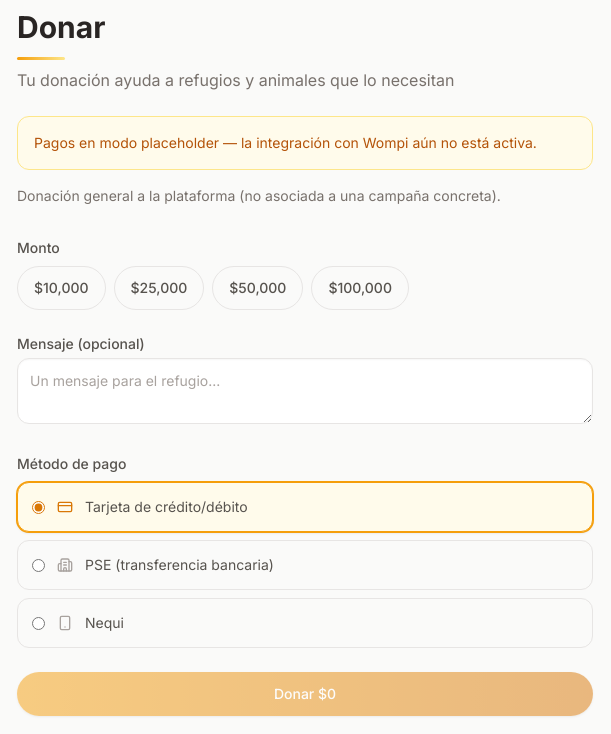
Test: CheckoutDonacionPage › shows Procesando text while submitting
The width and height of the screenshot is (611, 734).
Click the button "$25,000" at (159, 288), box [114,266,204,310]
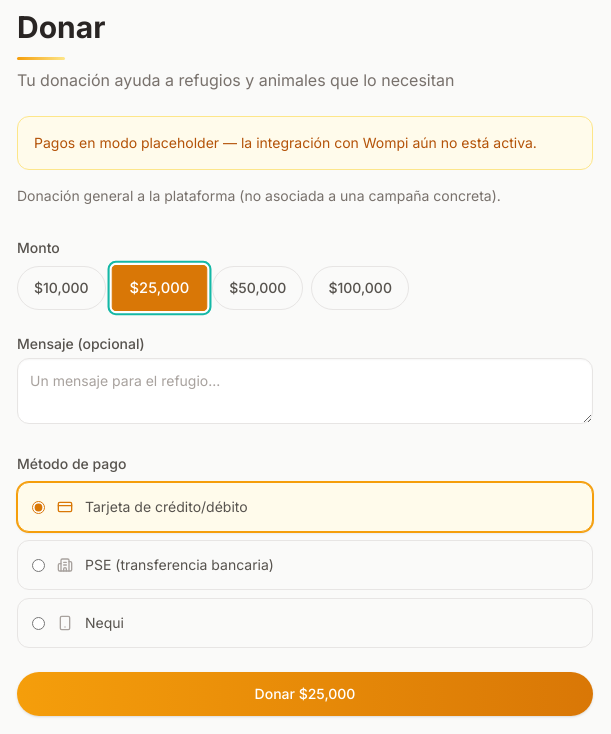
# Click submit — the button text changes to "Procesando..." immediately
Click the button "Donar $25,000" at (305, 694), box [17,672,593,716]
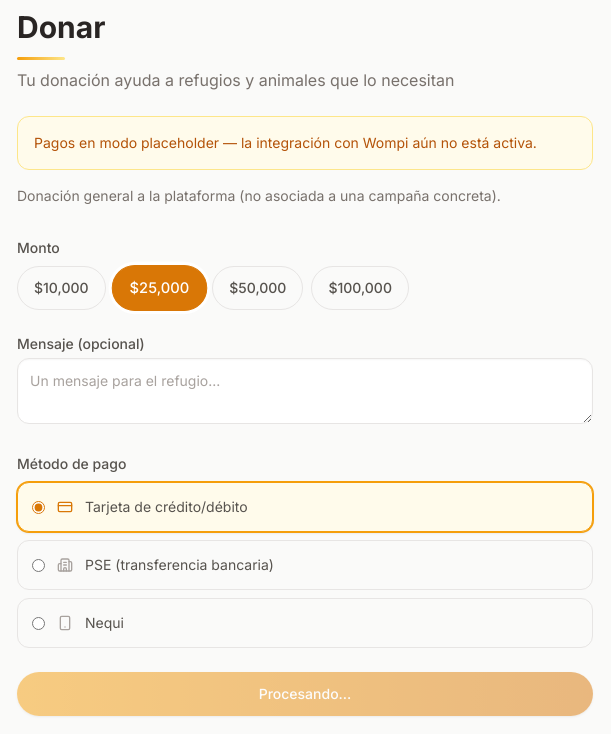
Now the button "Procesando..." is shown, box [17,672,593,716]
